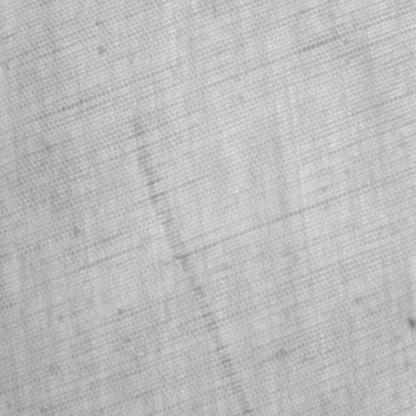oil spot: (128, 106, 254, 413)
